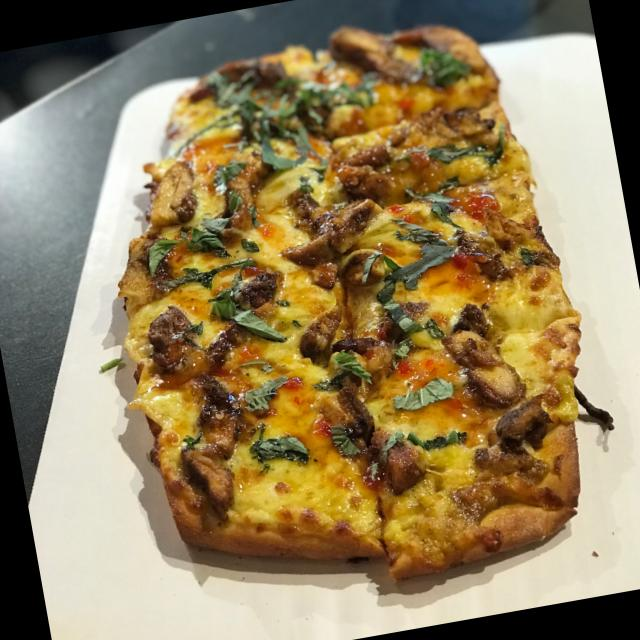mushrooms: (183, 380, 253, 509), (284, 185, 372, 269), (447, 331, 528, 410), (222, 153, 281, 241), (317, 384, 383, 461), (331, 132, 400, 204), (120, 233, 173, 316), (373, 432, 438, 497), (148, 306, 206, 377), (149, 159, 200, 231), (392, 108, 497, 140), (497, 395, 553, 455), (297, 305, 348, 367), (222, 270, 283, 314)
pizza: (115, 23, 612, 586)
